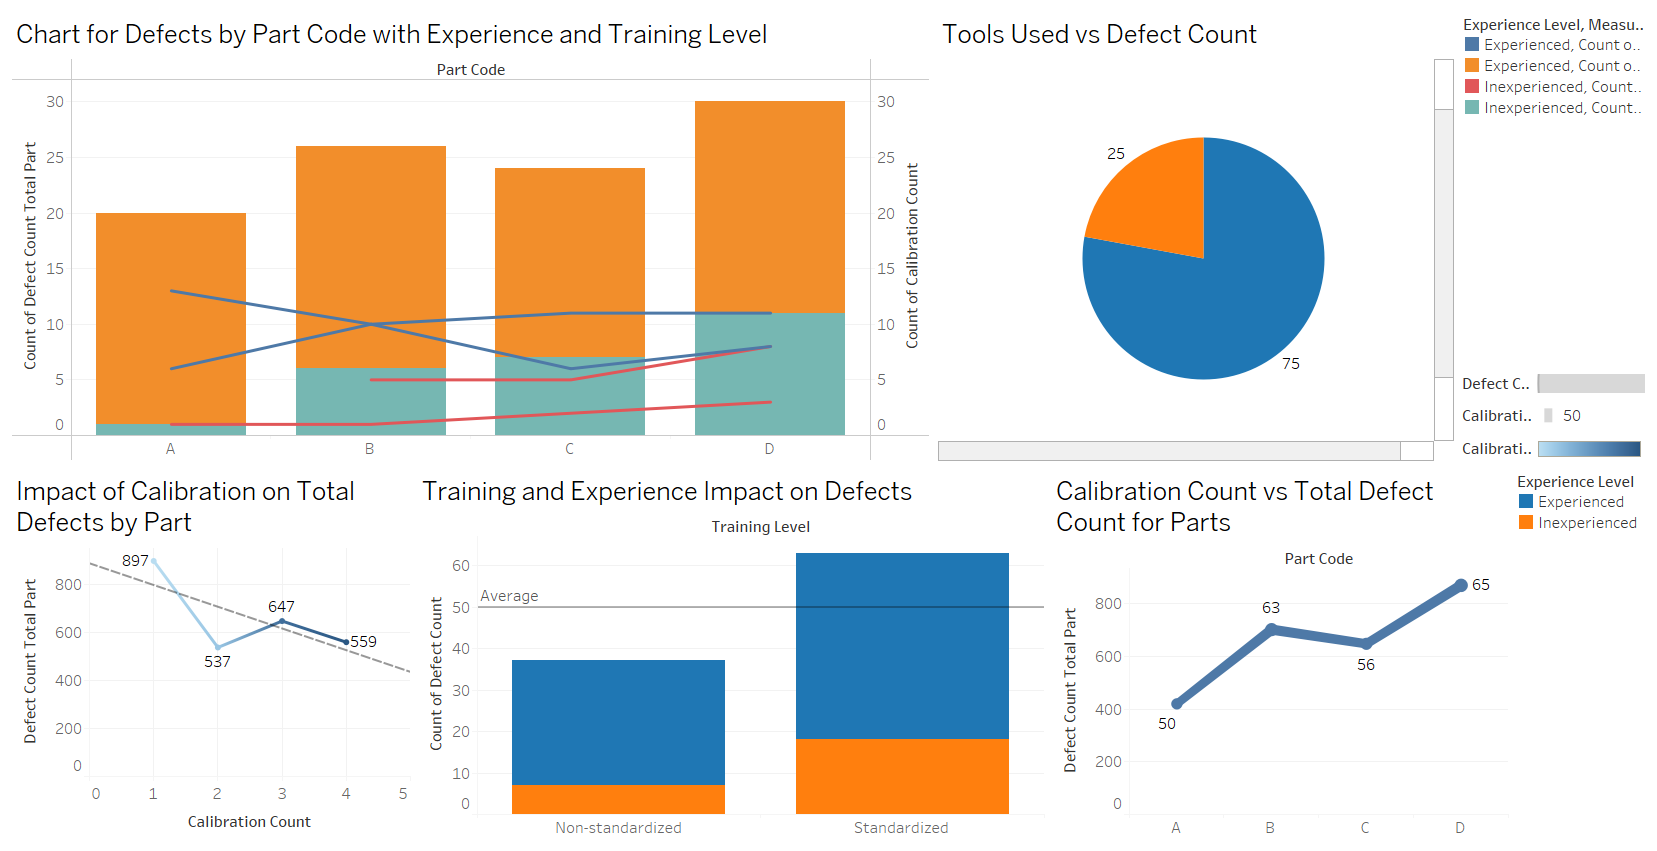

The page's visual inventory and layout, read from the dashboard file:
{"tool":"tableau","page":{"name":"Dashboard 2","canvas":[1000,1000],"units":"permille","ordinal":0},"visuals":[{"type":"worksheet","title":"Sheet 1","mark":"Automatic","rows":["Defect_Count_Total_Part","Calibration_Count"],"cols":["Part_Code"],"box":[4.8,9.4,558.8,537]},{"type":"worksheet","title":"Sheet 4","mark":"Pie","box":[563.6,9.4,316.2,537]},{"type":"legend","title":"Sheet 1","param":"[federated.1y2i2ne1ehvpol1d2a2cc09ke2lf].[none:Experience_Level:nk]\n[federated.1","box":[879.9,9.4,115.3,424.2]},{"type":"legend","title":"Sheet 4","param":"[federated.1y2i2ne1ehvpol1d2a2cc09ke2lf].[sum:Defect_Count:qk]","box":[879.9,433.6,115.3,37.6]},{"type":"legend","title":"Sheet 5","param":"[federated.1y2i2ne1ehvpol1d2a2cc09ke2lf].[sum:Calibration_Count:qk]","box":[879.9,471.2,115.3,37.6]},{"type":"legend","title":"Sheet 6","param":"[federated.1y2i2ne1ehvpol1d2a2cc09ke2lf].[sum:Calibration_Count:qk]","box":[879.9,508.8,115.3,37.6]},{"type":"worksheet","title":"Sheet 6","mark":"Line","rows":["Defect_Count_Total_Part"],"cols":["Calibration_Count"],"box":[4.8,546.4,245,444.2]},{"type":"worksheet","title":"Sheet 3","mark":"Automatic","rows":["Defect_Count"],"cols":["Training_Level"],"box":[249.8,546.4,382.6,444.2]},{"type":"worksheet","title":"Sheet 5","mark":"Line","rows":["Defect_Count_Total_Part"],"cols":["Part_Code"],"box":[632.4,546.4,280,444.2]},{"type":"legend","title":"Sheet 3","param":"[federated.1y2i2ne1ehvpol1d2a2cc09ke2lf].[none:Experience_Level:nk]","box":[912.5,546.4,82.7,444.2]}]}

Visuals, with their boxes on the dashboard's canvas, which has no fixed pixel size, in thousandths of its width and height (x1, y1, x2, y2). These are canvas units, not pixel positions in the 1657x851 screenshot, which may show the page scaled, cropped or inside an application window:
"Sheet 1" worksheet: rect(5, 9, 564, 546)
"Sheet 4" worksheet (Pie marks): rect(564, 9, 880, 546)
"Sheet 1" legend: rect(880, 9, 995, 434)
"Sheet 4" legend: rect(880, 434, 995, 471)
"Sheet 5" legend: rect(880, 471, 995, 509)
"Sheet 6" legend: rect(880, 509, 995, 546)
"Sheet 6" worksheet (Line marks): rect(5, 546, 250, 991)
"Sheet 3" worksheet: rect(250, 546, 632, 991)
"Sheet 5" worksheet (Line marks): rect(632, 546, 912, 991)
"Sheet 3" legend: rect(912, 546, 995, 991)
